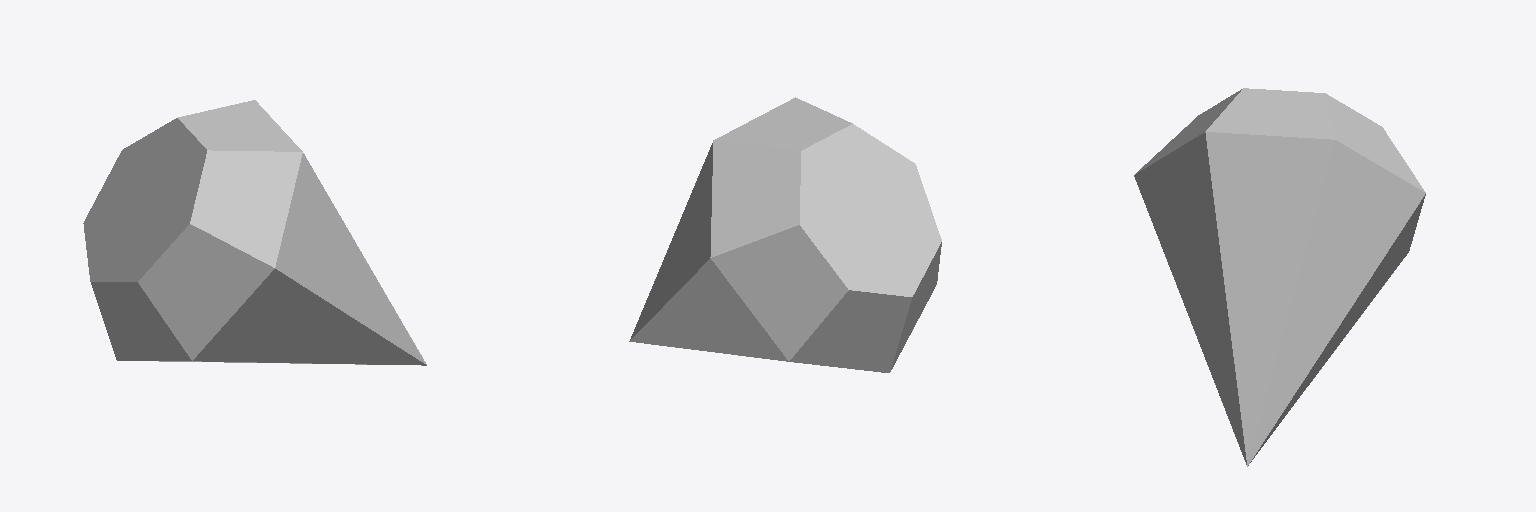
Rendered from magicWand_stick5_right.obj.
The picture shows the model from 3 angles: view 1: azimuth 30°, elevation 25°; view 2: azimuth 150°, elevation 25°; view 3: azimuth 270°, elevation 25°; orthographic projection.
Parts seen in each view (by area): view 1: magicWand_stick5_right; view 2: magicWand_stick5_right; view 3: magicWand_stick5_right.
Part boxes in pixels (bbox=[...]): magicWand_stick5_right: bbox=[83, 100, 426, 365]; magicWand_stick5_right: bbox=[629, 97, 941, 372]; magicWand_stick5_right: bbox=[1134, 88, 1425, 466].
Bounding box in the file's own units: 0.0643 × 0.0537 × 0.0525.